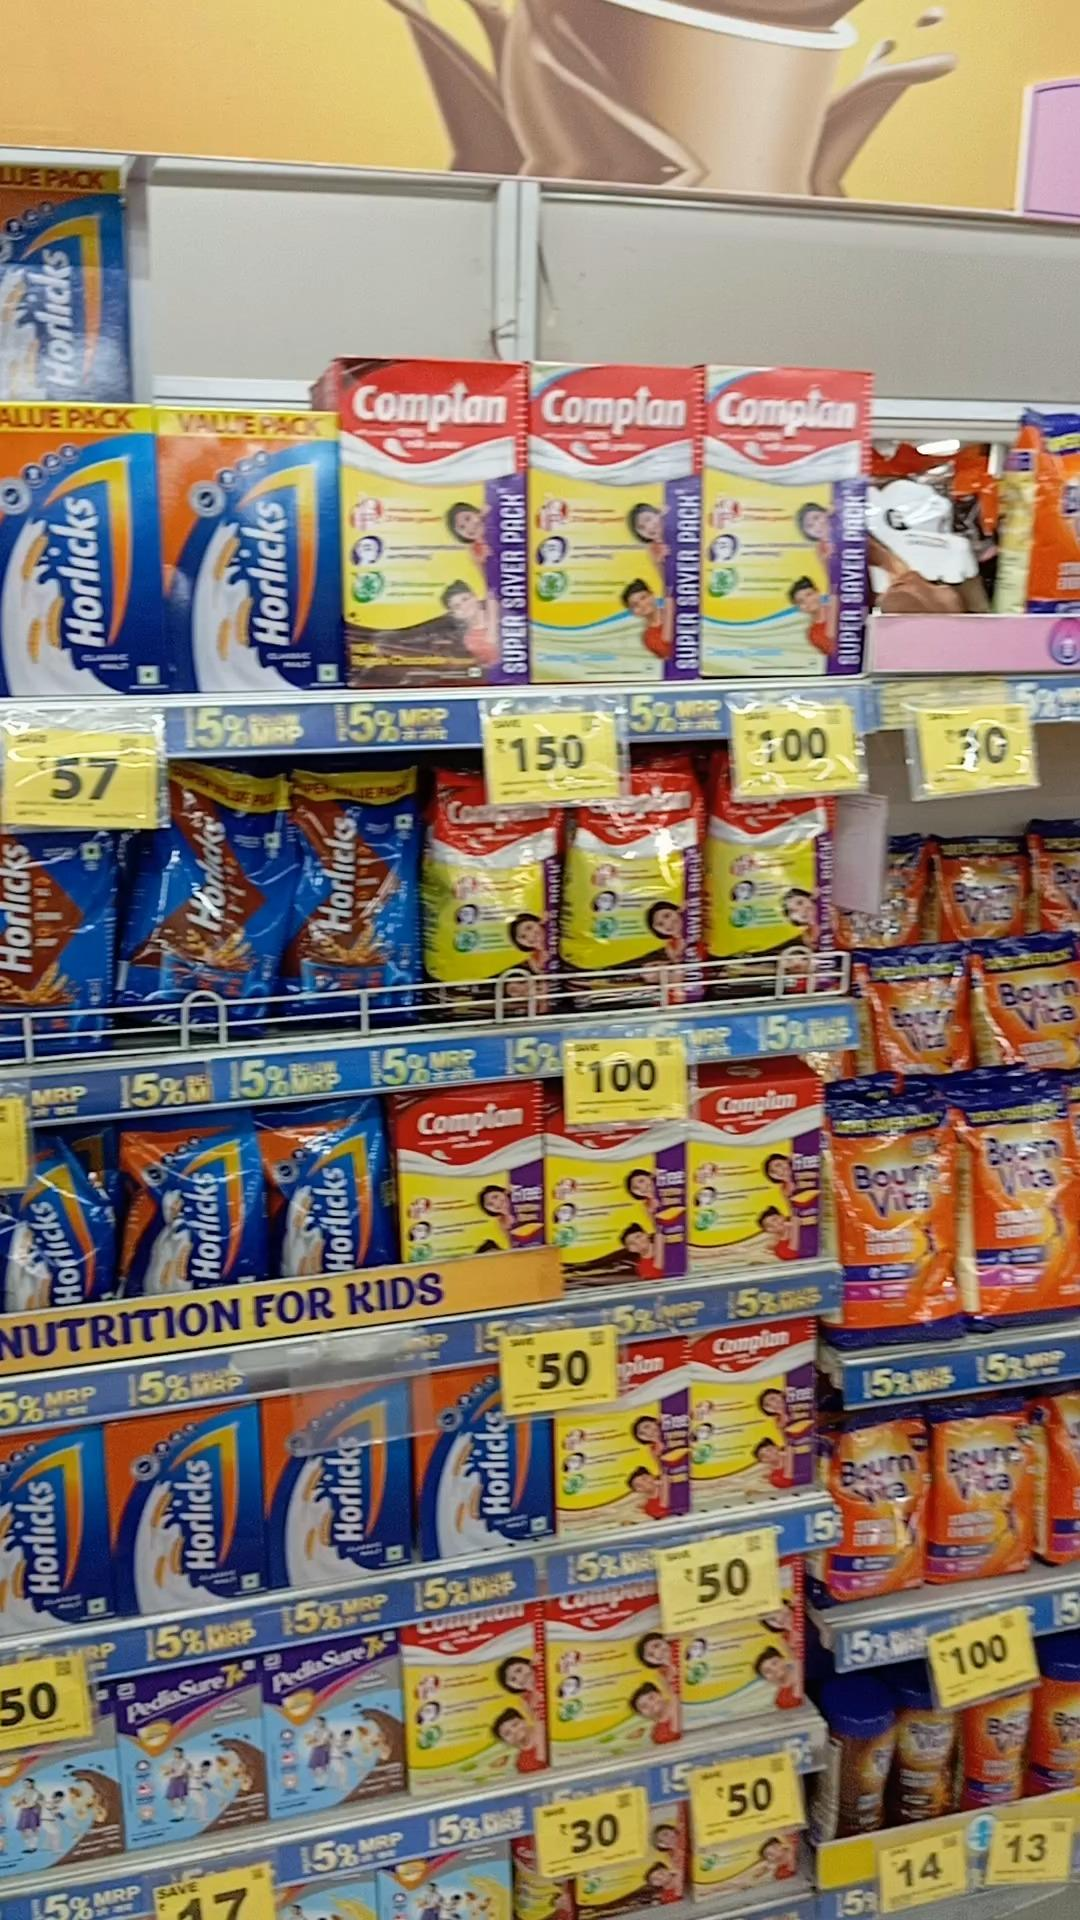BOURN_VITA_1_KG_POUCH: (825, 1092, 959, 1341), (967, 1087, 1080, 1327)
BOURN_VITA_500_G_POUCH: (820, 1411, 927, 1600), (935, 1400, 1033, 1584)
COMPLAN_CHOCOLATE_1_KG_PACK: (339, 347, 522, 686)
COMPLAN_CHOCOLATE_500_GMS_PACK: (401, 1084, 542, 1261), (549, 1113, 684, 1290)
COMPLAN_KESAR_BADAM_500_GMS_PACK: (688, 1075, 818, 1273), (688, 1320, 811, 1502), (553, 1357, 686, 1524)
COMPLAN_PISTA_BADAM_500_GMS_PACK: (406, 1613, 546, 1789), (547, 1596, 682, 1770)
COMPLAN_RC_POUCH_700_GMS_12: (562, 762, 703, 1004), (705, 764, 841, 1000), (427, 773, 556, 1017)
HORLICK_CHOCOLATE_750_G_POUCH: (136, 756, 299, 1044), (299, 757, 425, 1023)
HORLICK_CLASSIC_MALT_500_G_PACK: (265, 1383, 413, 1580), (115, 1415, 258, 1601), (417, 1373, 549, 1549)
HORLICK_CLASSIC_MALT_750_G_POUCH: (131, 1114, 264, 1298), (268, 1100, 392, 1279), (0, 1133, 128, 1304)
PEDIASURE_7_PLUS_CHOCOLATE_400_G_PACK: (127, 1662, 265, 1844), (269, 1634, 405, 1812)
